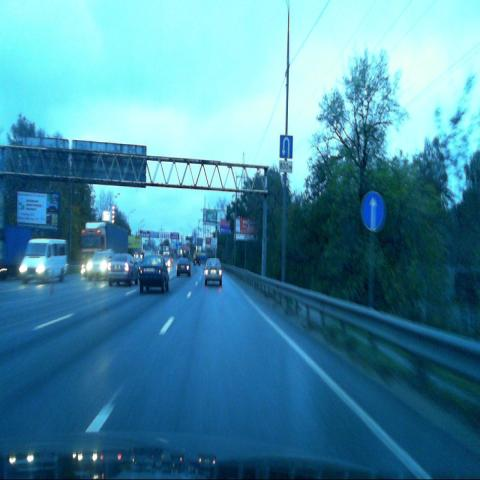6_3_1: (280, 135, 292, 158)
